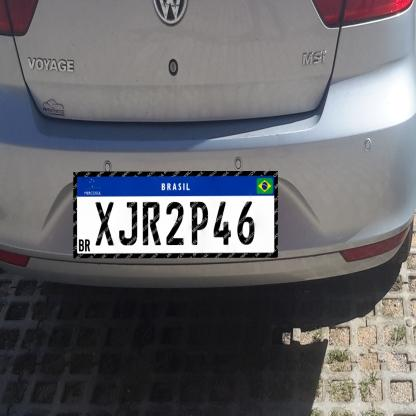PlacaM: (73, 171, 278, 258)
